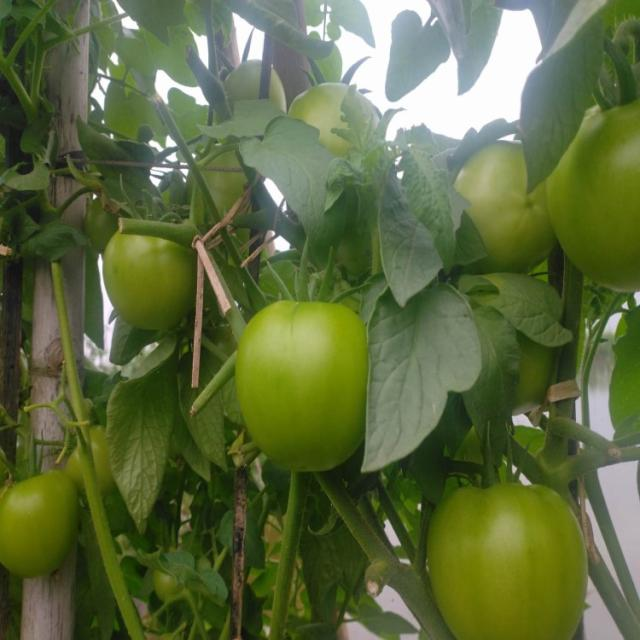tomato: (422, 476, 586, 640), (231, 299, 374, 475), (542, 102, 640, 280), (448, 135, 555, 263), (100, 220, 196, 334), (1, 463, 79, 578), (296, 73, 363, 146), (228, 51, 291, 120)
